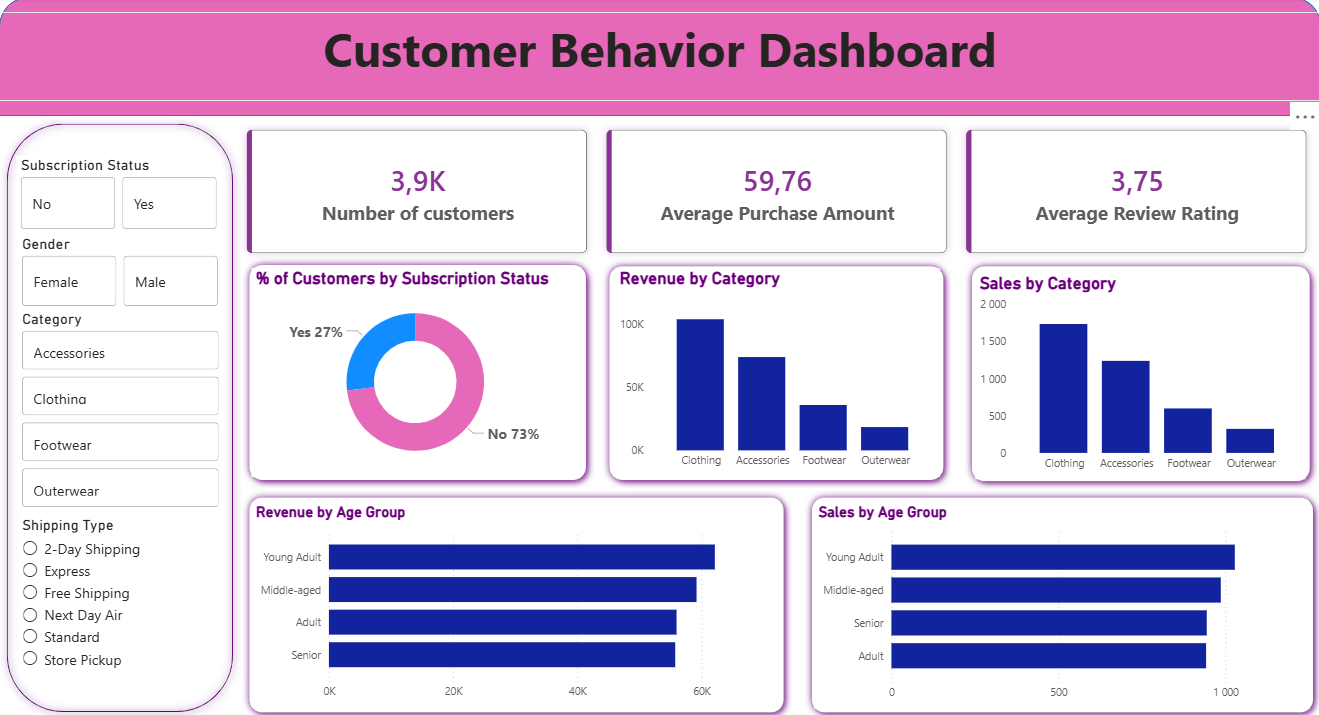

The dashboard page shown, as its layout file describes it:
{"tool":"powerbi","page":{"name":"Page 1","canvas":[1500,820],"ordinal":0},"visuals":[{"type":"shape","box":[274.4,558.5,623.9,261.8],"z":0},{"type":"shape","box":[913.6,558.5,586.3,261.8],"z":1000},{"type":"cardVisual","fields":{"Data":["customer_behavior customer.Number of customers","customer_behavior customer.Average Purchase Amount","customer_behavior customer.Average Review Rating"]},"box":[264.6,135.1,1235.3,172.7],"z":2000},{"type":"shape","box":[0,0,1499.9,135.1],"z":3000},{"type":"textbox","box":[0,16.7,1499.9,100.3],"z":4000},{"type":"shape","box":[274.4,295.2,399.7,261.8],"z":5000},{"type":"donutChart","title":"% of Customers by Subscription Status","fields":{"Category":["customer_behavior customer.subscription_status"],"Y":["CountNonNull(customer_behavior customer.customer_id)"]},"box":[286.9,307.8,371.8,236.8],"z":6000},{"type":"shape","box":[1094.6,296.6,401.1,261.8],"z":7000},{"type":"shape","box":[683.8,296.6,396.9,260.4],"z":8000},{"type":"clusteredColumnChart","title":"Revenue by Category","fields":{"Y":["Sum(customer_behavior customer.purchase_amount)"],"Category":["customer_behavior customer.category"]},"box":[699.1,307.8,367.7,236.8],"z":9000},{"type":"clusteredColumnChart","title":"Sales by Category","fields":{"Y":["CountNonNull(customer_behavior customer.customer_id)"],"Category":["customer_behavior customer.category"]},"box":[1107.2,313.4,374.6,234],"z":10000},{"type":"shape","box":[0,135.1,274.4,685.2],"z":11000},{"type":"advancedSlicerVisual","fields":{"Values":["customer_behavior customer.subscription_status"]},"box":[19.5,179.7,234,89.1],"z":12000},{"type":"advancedSlicerVisual","fields":{"Values":["customer_behavior customer.gender"]},"box":[20.9,268.8,234,86.3],"z":13000},{"type":"advancedSlicerVisual","fields":{"Values":["customer_behavior customer.category"]},"box":[20.9,355.1,234,232.6],"z":14000},{"type":"clusteredBarChart","title":"Revenue by Age Group","fields":{"Y":["Sum(customer_behavior customer.purchase_amount)"],"Category":["customer_behavior customer.age_group"]},"box":[286.9,573.8,596.1,231.2],"z":15000},{"type":"clusteredBarChart","title":"Sales by Age Group","fields":{"Category":["customer_behavior customer.age_group"],"Y":["CountNonNull(customer_behavior customer.customer_id)"]},"box":[924.7,573.8,562.6,232.6],"z":16000},{"type":"listSlicer","fields":{"Values":["customer_behavior customer.shipping_type"]},"box":[20.9,587.7,224.2,232.6],"z":16001}]}

Visuals, with their boxes in screenshot pixels (x1, y1, x2, y2), scaled from the page's 1500x820 canvas onto the 1319x715 screenshot:
shape: region(241, 487, 790, 714)
shape: region(803, 487, 1318, 714)
cardVisual - customer_behavior customer.Number of customers x customer_behavior customer.Average Purchase Amount: region(233, 118, 1318, 268)
shape: region(0, 0, 1318, 118)
textbox: region(0, 15, 1318, 102)
shape: region(241, 257, 593, 486)
"% of Customers by Subscription Status" donutChart: region(252, 268, 579, 475)
shape: region(963, 259, 1315, 487)
shape: region(601, 259, 950, 486)
"Revenue by Category" clusteredColumnChart: region(615, 268, 938, 475)
"Sales by Category" clusteredColumnChart: region(974, 273, 1303, 477)
shape: region(0, 118, 241, 714)
advancedSlicerVisual - customer_behavior customer.subscription_status: region(17, 157, 223, 234)
advancedSlicerVisual - customer_behavior customer.gender: region(18, 234, 224, 310)
advancedSlicerVisual - customer_behavior customer.category: region(18, 310, 224, 512)
"Revenue by Age Group" clusteredBarChart: region(252, 500, 776, 702)
"Sales by Age Group" clusteredBarChart: region(813, 500, 1308, 703)
listSlicer - customer_behavior customer.shipping_type: region(18, 512, 216, 714)
